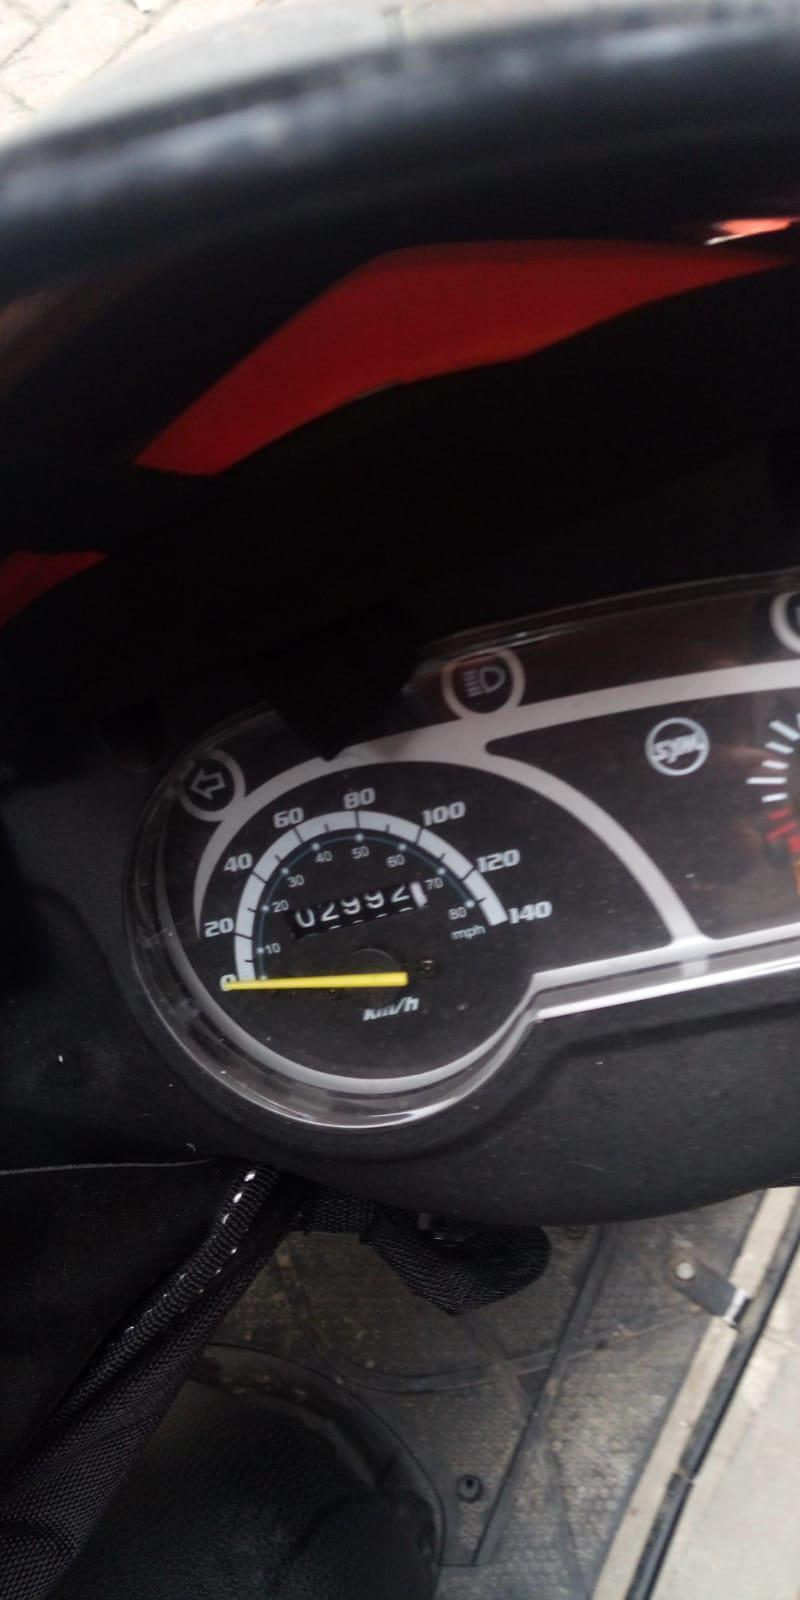0: (293, 906, 317, 927), (295, 873, 305, 884)
1: (414, 877, 428, 898)
2: (315, 898, 340, 921), (388, 880, 412, 902)
3: (288, 876, 296, 887)
7: (423, 878, 433, 890)
9: (362, 886, 386, 909), (340, 893, 363, 916)
odometer: (288, 877, 431, 943)
